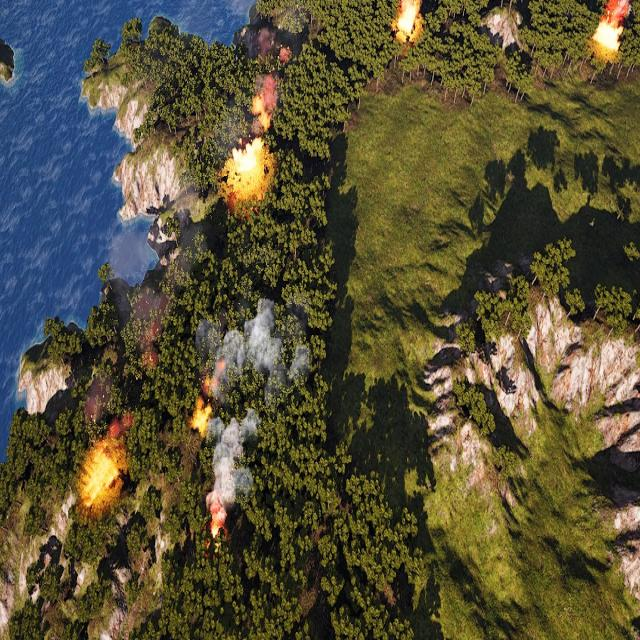fire: (82, 446, 120, 504), (593, 1, 628, 54), (230, 136, 267, 184), (392, 0, 420, 36), (190, 398, 210, 437), (210, 518, 229, 540)
smoke: (87, 212, 204, 444), (204, 297, 319, 513)
